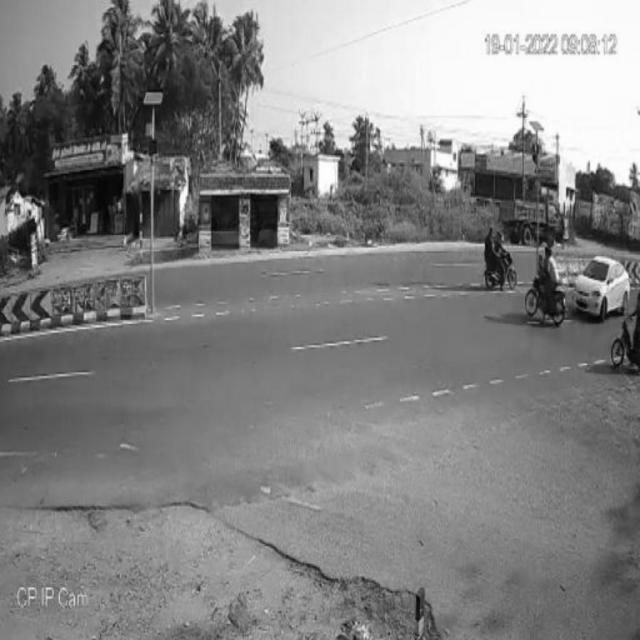vehicle: (573, 254, 630, 318), (524, 250, 568, 326), (610, 297, 640, 374), (484, 224, 518, 288)
